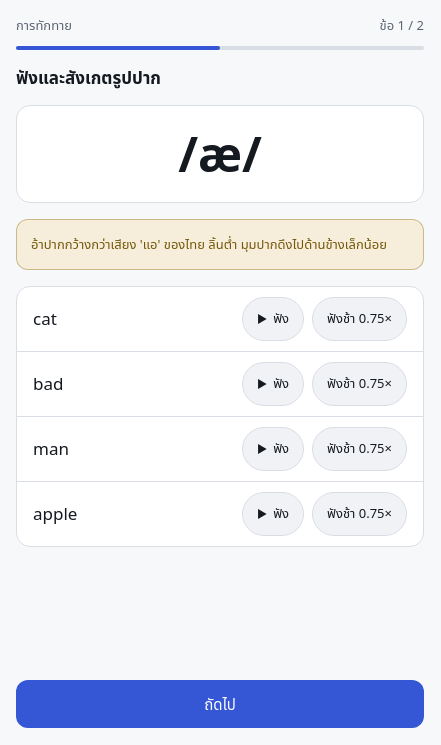
Test case: LessonPlayer › sends nothing for phoneme_intro and advances
This screenshot has width=441, height=745.
Expected: the text "ข้อ 1 / 2" is shown, [380,16,424,36]
What coordinates should you click on to do the following:
click the button "ถัดไป"
I would click on:
 (220, 704)
Its box is [16,680,424,728].
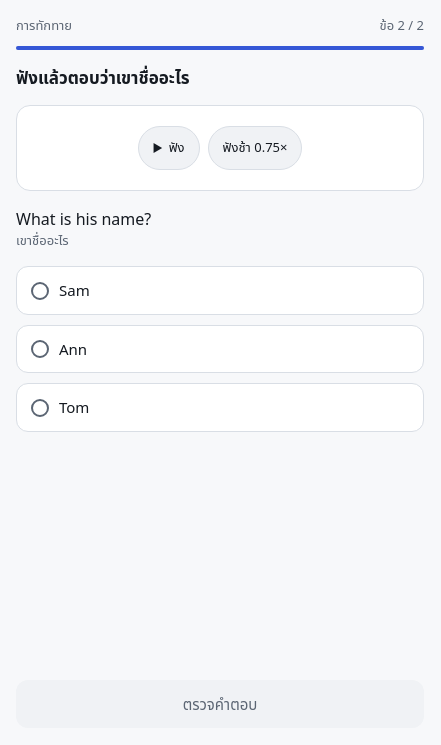
Now the text "ข้อ 2 / 2" is shown, box [380,16,424,36]
